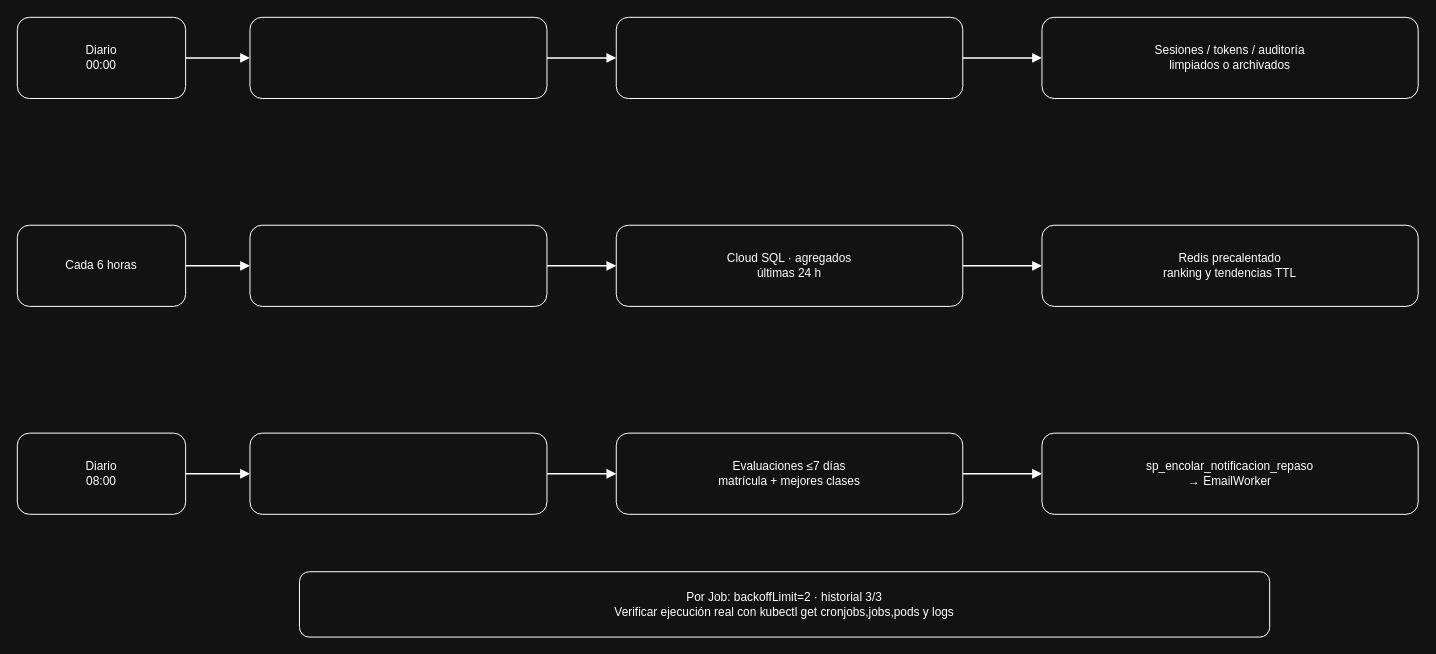
Image size: 1436x654. Some labels were removed from this diagram. The shapes that lost their labels are listed below. From the top down, each one's box as (x1, y1, x2, y2) in pixels, then its label:
(249, 16, 547, 99): yousac-purge-security
(615, 16, 963, 99): Cloud SQL Auth Proxy → Auth sp_purgar_seguridad
(249, 224, 547, 306): yousac-trends-recalc
(249, 432, 547, 514): yousac-review-notify
